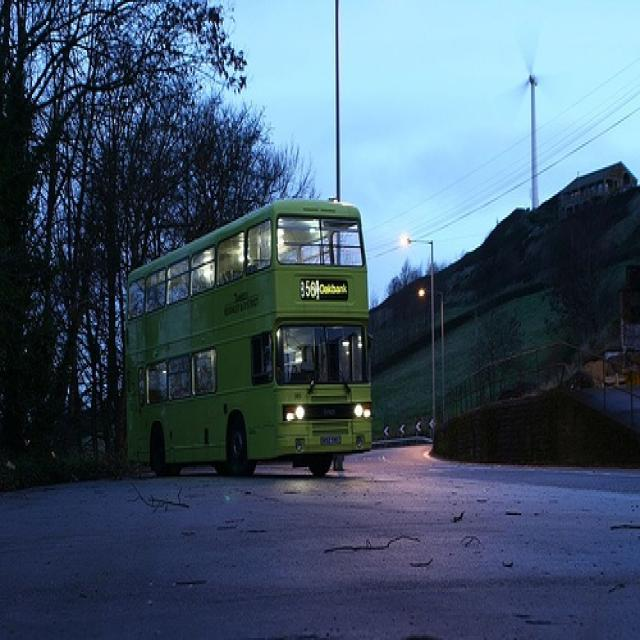bus: (124, 200, 376, 477)
